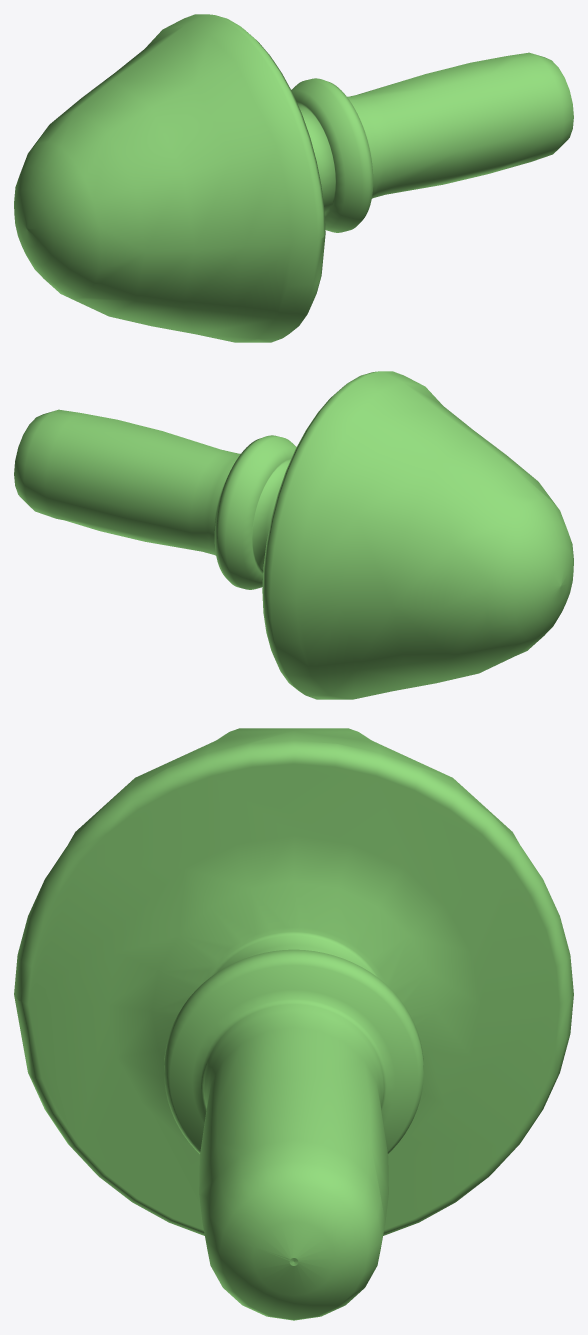
File: mushroom_1.fbx
The picture shows the model from 3 angles, top to bottom: view 1: azimuth 30°, elevation 25°; view 2: azimuth 150°, elevation 25°; view 3: azimuth 270°, elevation 25°; orthographic projection. The views are drawn at different scales.
Parts seen in each view (by area): view 1: revolvedSurface1; view 2: revolvedSurface1; view 3: revolvedSurface1.
Boxes of the visible parts, box(x1,y1,x2,y2) form: revolvedSurface1: box(14, 14, 573, 342); revolvedSurface1: box(14, 371, 573, 699); revolvedSurface1: box(14, 728, 573, 1320).
Size of the model in its own units: 7.27 by 3.96 by 3.96.
